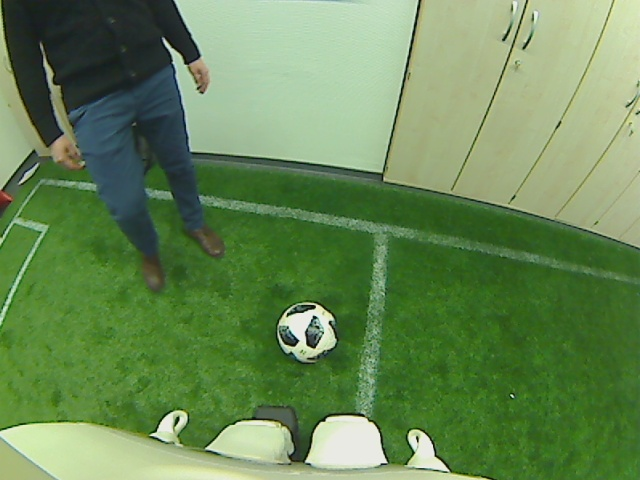ball: (274, 299, 340, 363)
